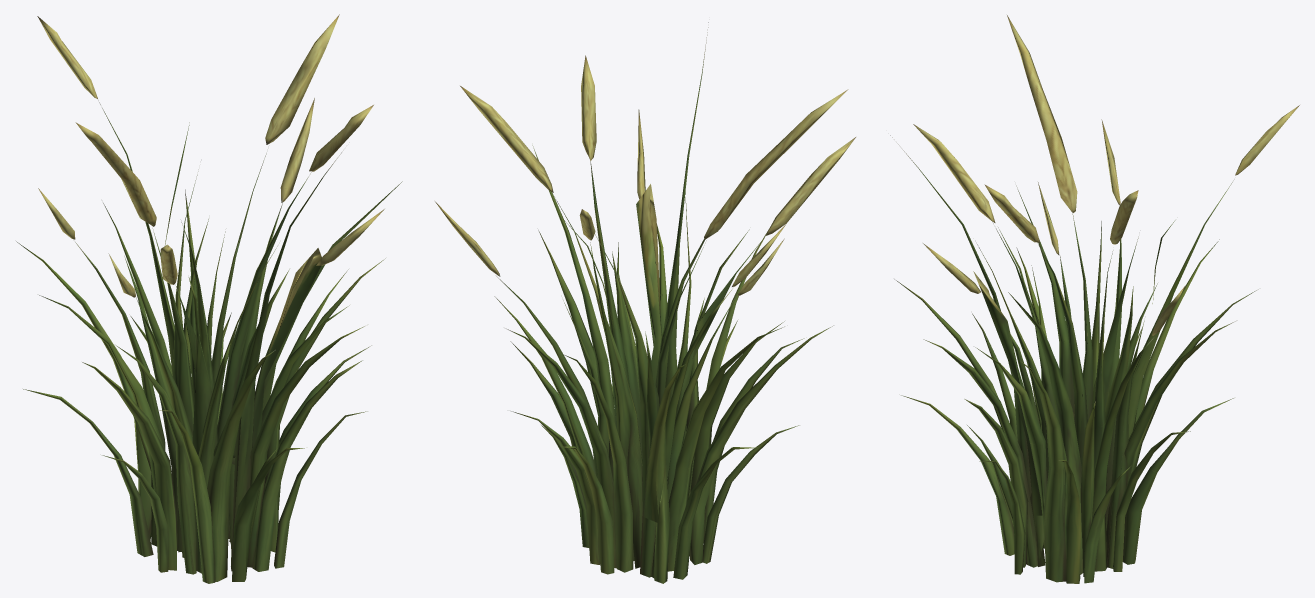
The model's file is Blades_of_grass.glb.
The picture shows the model from 3 angles, left to right: view 1: azimuth 30°, elevation 25°; view 2: azimuth 150°, elevation 25°; view 3: azimuth 270°, elevation 25°; orthographic projection. The views are drawn at different scales.
Parts seen in each view (by area): view 1: geometry_0; view 2: geometry_0; view 3: geometry_0.
Part boxes in pixels (bbox=[...]): geometry_0: bbox=[16, 14, 402, 583]; geometry_0: bbox=[435, 22, 855, 583]; geometry_0: bbox=[890, 15, 1299, 583].
Bounding box in the file's own units: 0.6689 × 0.9512 × 0.771.
Materials: 1 (1 with a texture image).
